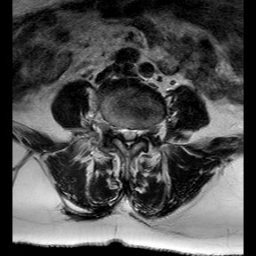CCS_normal: (126, 119, 133, 155)
LFS_stenosis: (140, 118, 149, 143)
LLS_stenosis: (133, 118, 140, 147)
RFS_normal: (109, 116, 118, 141)
RLS_stenosis: (118, 119, 126, 145)
